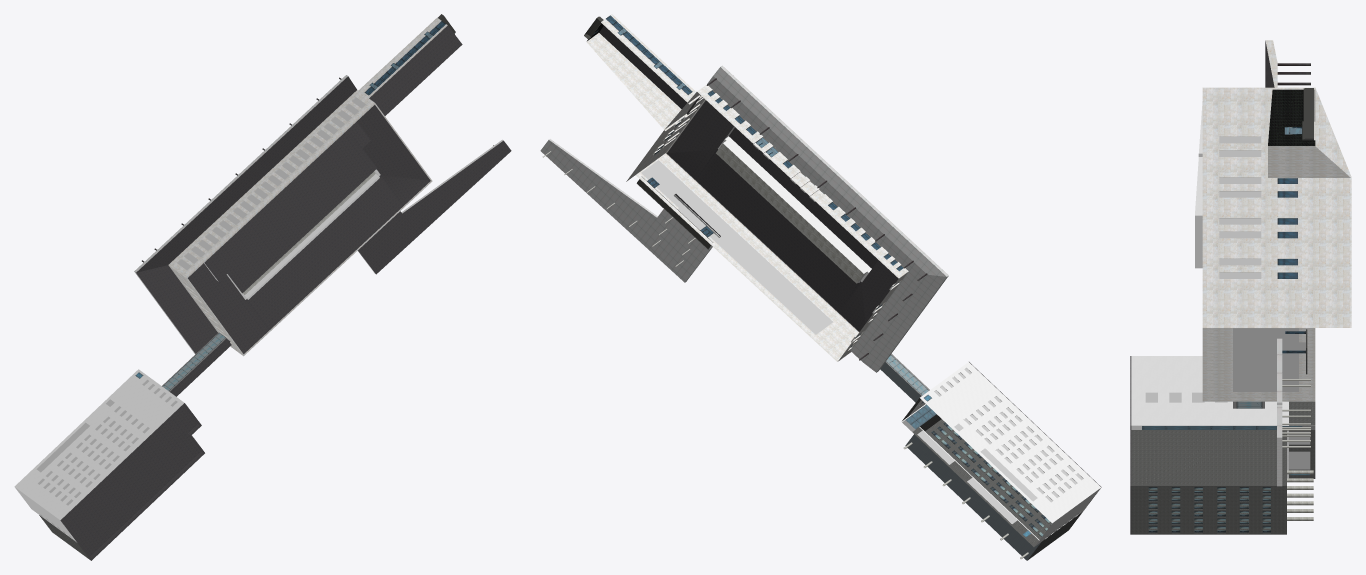
File: Toompst_37_2.obj
3 views of the same model, side by side, from view 1: azimuth 30°, elevation 25°; view 2: azimuth 150°, elevation 25°; view 3: azimuth 270°, elevation 25° (orthographic). The views are drawn at different scales.
Visible parts, largest first — view 1: Toompst_37_2; view 2: Toompst_37_2; view 3: Toompst_37_2.
Boxes of the visible parts, x1,y1,x2,y2 form: Toompst_37_2: (14, 14, 511, 560); Toompst_37_2: (540, 14, 1101, 560); Toompst_37_2: (1130, 40, 1351, 534).
Size of the model in its own units: 142 by 116 by 27.91.
